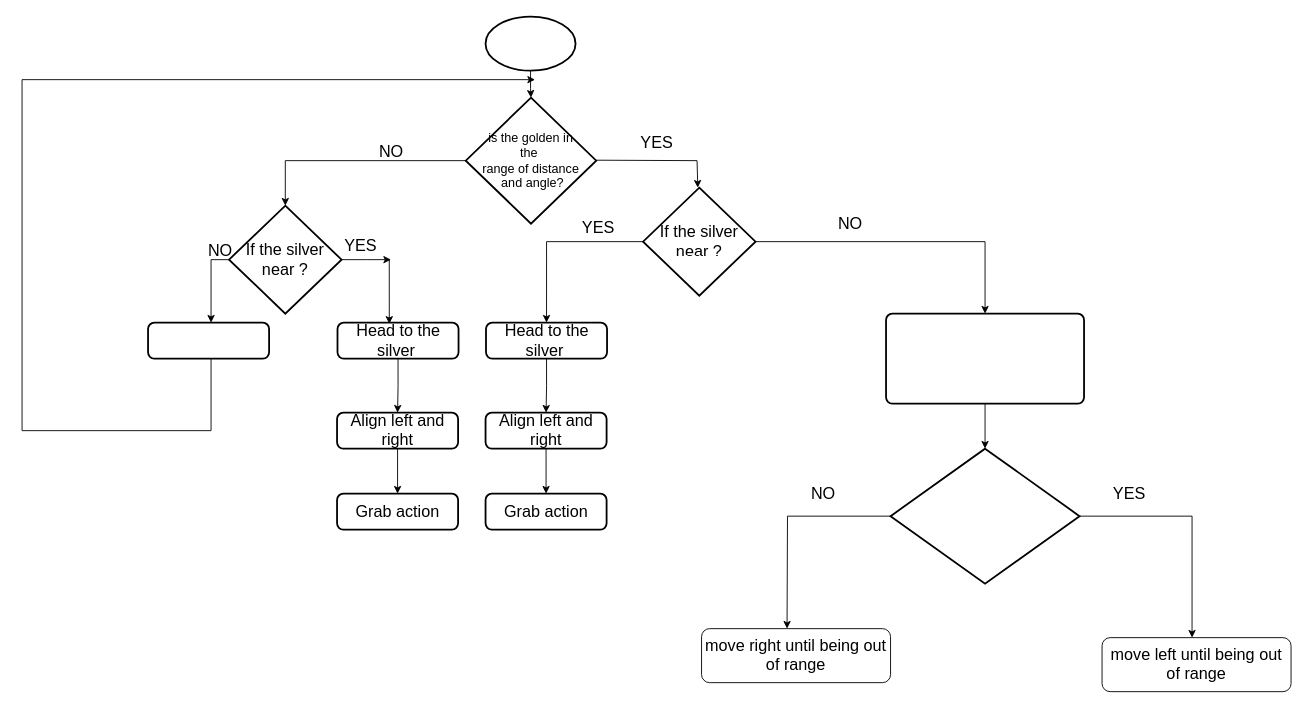
Some shapes in this 1307 by 707 pixel diagram are drawn without their labels. Here are the shapes that lost their labels. From the top down, the box of each, then its label:
(484, 15, 576, 71): Start Drive
(147, 321, 270, 359): Drive
(885, 312, 1084, 404): Filter the nearest golden token detected in the rang
(889, 447, 1080, 584): If the nearest golden dist. left>right
